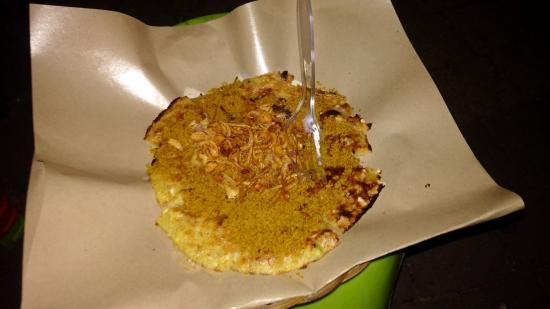kerak_telor: (146, 73, 383, 276)
